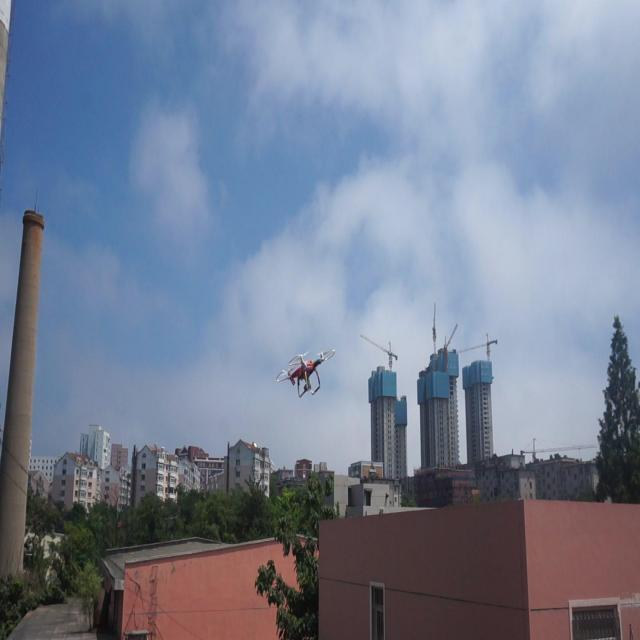UAV: (276, 350, 336, 396)
